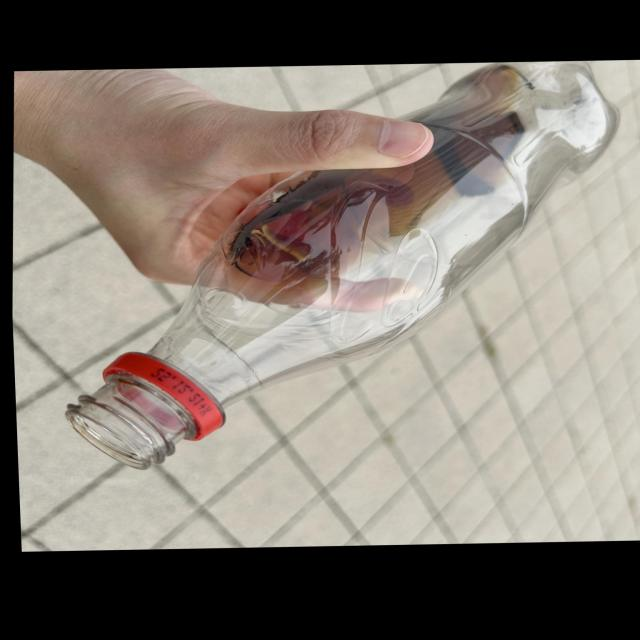low: (66, 63, 616, 469)
